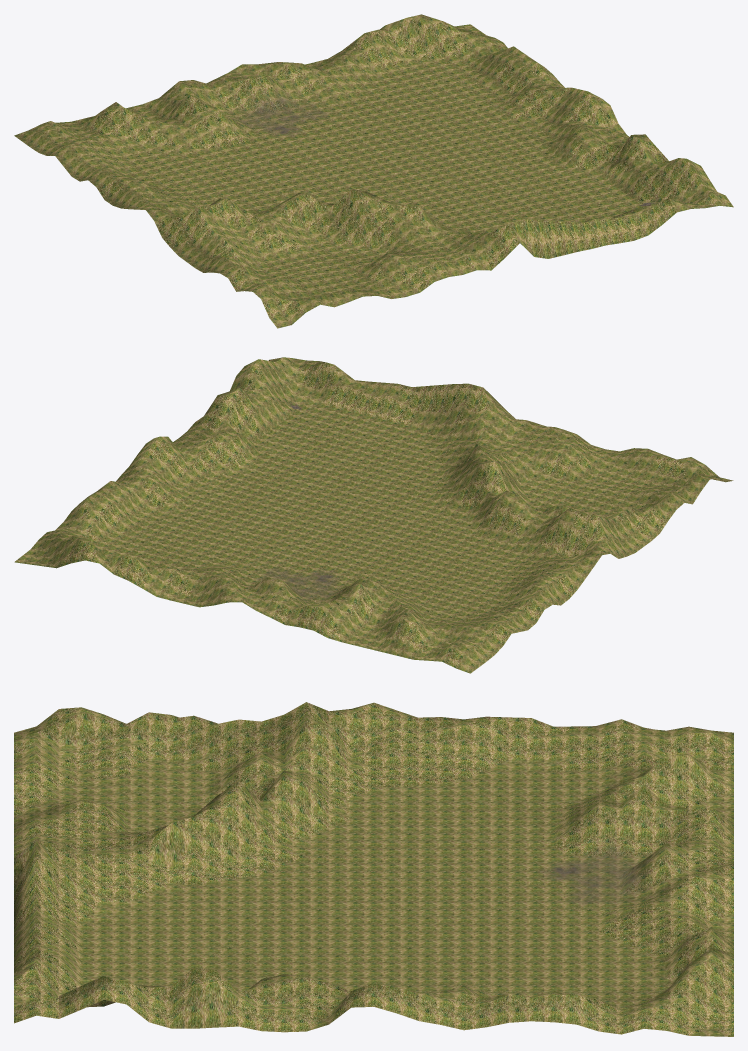
The picture shows the model from 3 angles, top to bottom: view 1: azimuth 30°, elevation 25°; view 2: azimuth 150°, elevation 25°; view 3: azimuth 270°, elevation 25°; orthographic projection. The views are drawn at different scales.
Parts seen in each view (by area): view 1: Mesh; view 2: Mesh; view 3: Mesh.
Boxes of the visible parts, x1=… form: Mesh: x1=14, y1=14, x2=733, y2=328; Mesh: x1=14, y1=357, x2=733, y2=673; Mesh: x1=14, y1=702, x2=733, y2=1036.
Bounding box in the file's own units: 120 × 10.33 × 120.
Materials: 1 (1 with a texture image).
